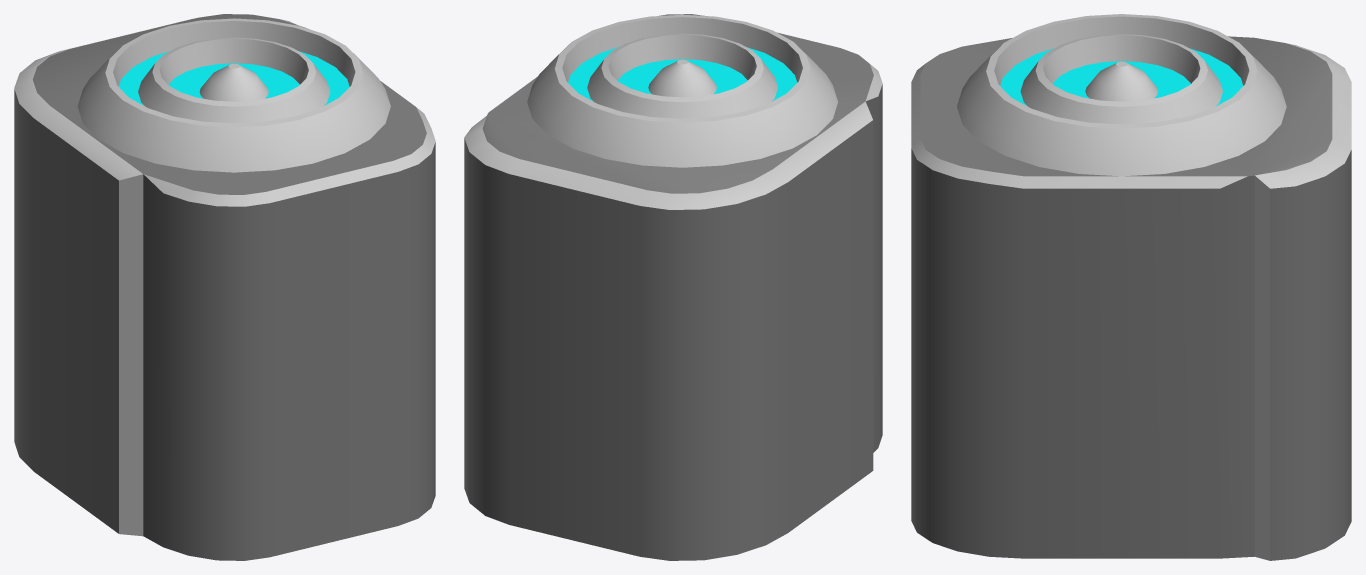
Rendered from Module_015.fbx.
3 renders of one model, left to right at view 1: azimuth 30°, elevation 25°; view 2: azimuth 150°, elevation 25°; view 3: azimuth 270°, elevation 25°, orthographic. The views are drawn at different scales.
Parts seen in each view (by area): view 1: Module_015; view 2: Module_015; view 3: Module_015.
Part boxes in pixels (<box>): Module_015: <box>14,14,435,560</box>; Module_015: <box>464,14,882,560</box>; Module_015: <box>911,14,1351,560</box>.
Size of the model in its own units: 172 by 222 by 209.
